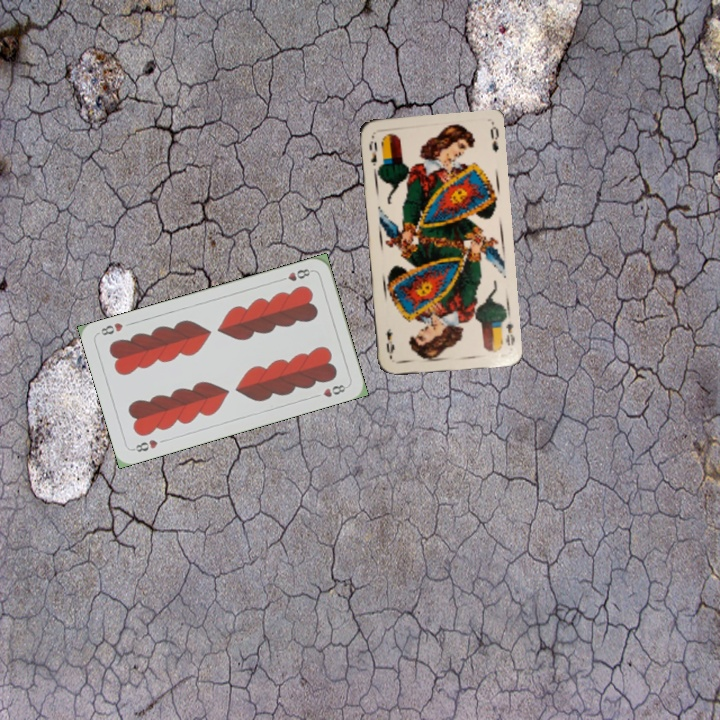EO: (365, 136, 380, 169), (502, 320, 518, 348)
H8: (275, 265, 315, 284), (129, 435, 160, 455)
